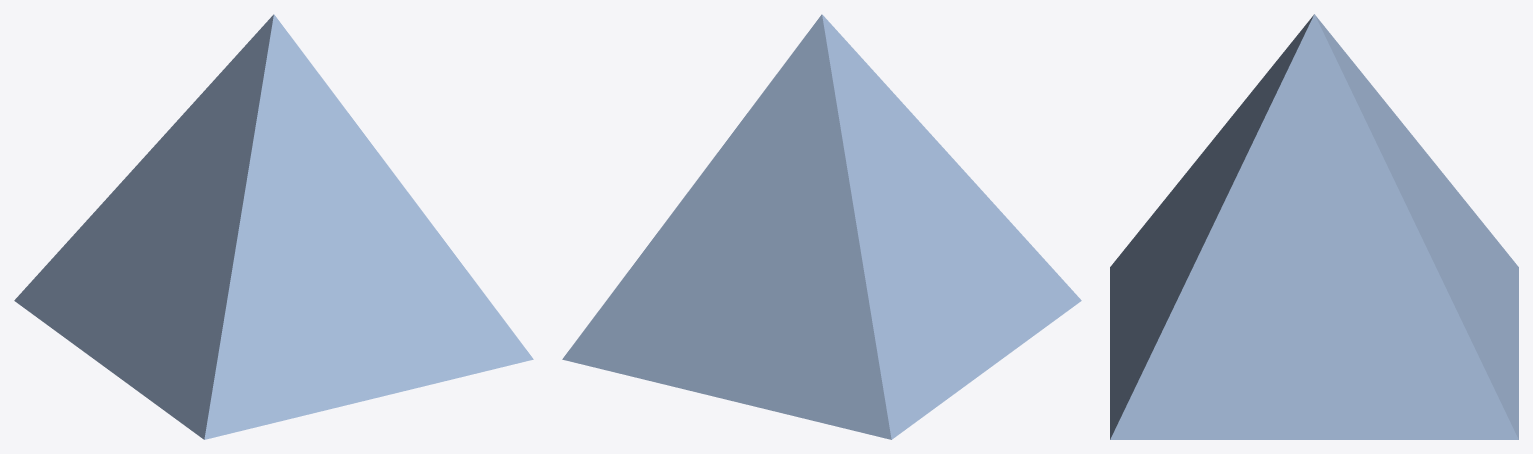
The model's file is sample_pyramid.glb.
3 renders of one model, left to right at view 1: azimuth 30°, elevation 25°; view 2: azimuth 150°, elevation 25°; view 3: azimuth 270°, elevation 25°, orthographic. The views are drawn at different scales.
Bounding box in the file's own units: 1.2 × 1.1 × 1.2.
